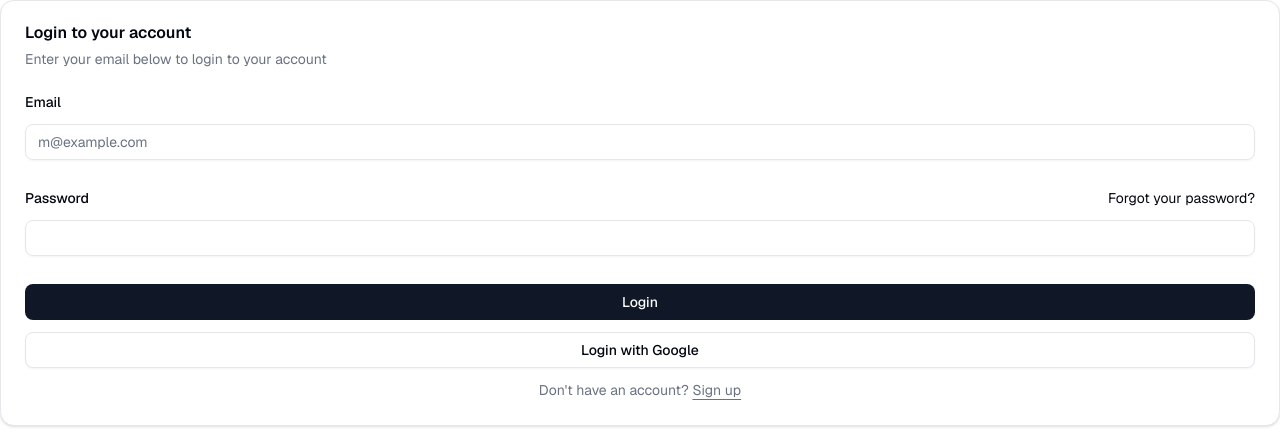
Scenario: LoginForm Component › should disable form during submission
The width and height of the screenshot is (1280, 444).
Type "test@example.com" into the field labelled "Email". click: coordinates (640, 142)
box: [25,124,1255,160]
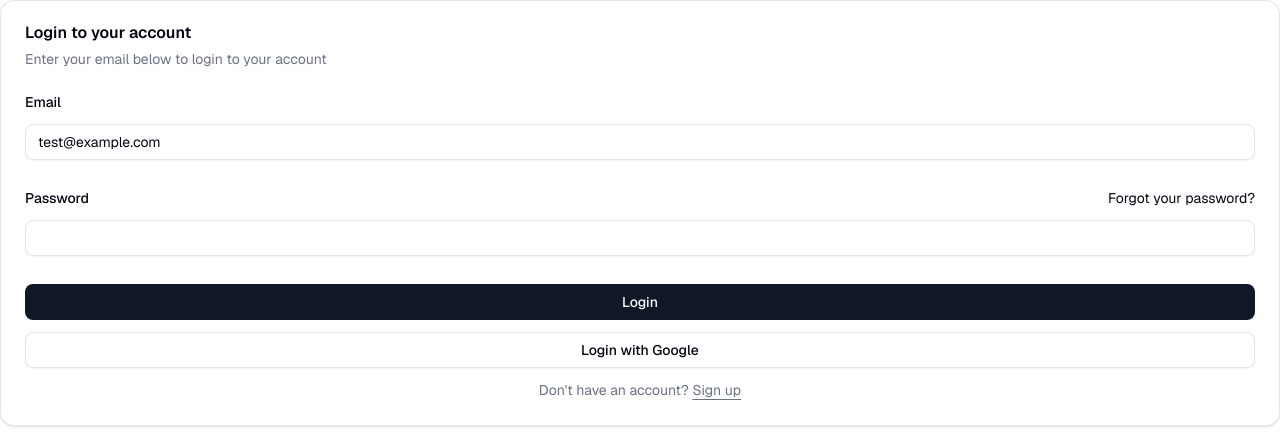
Type "password123" into the password field labelled "Password". click: coordinates (640, 238)
box: [25,220,1255,256]
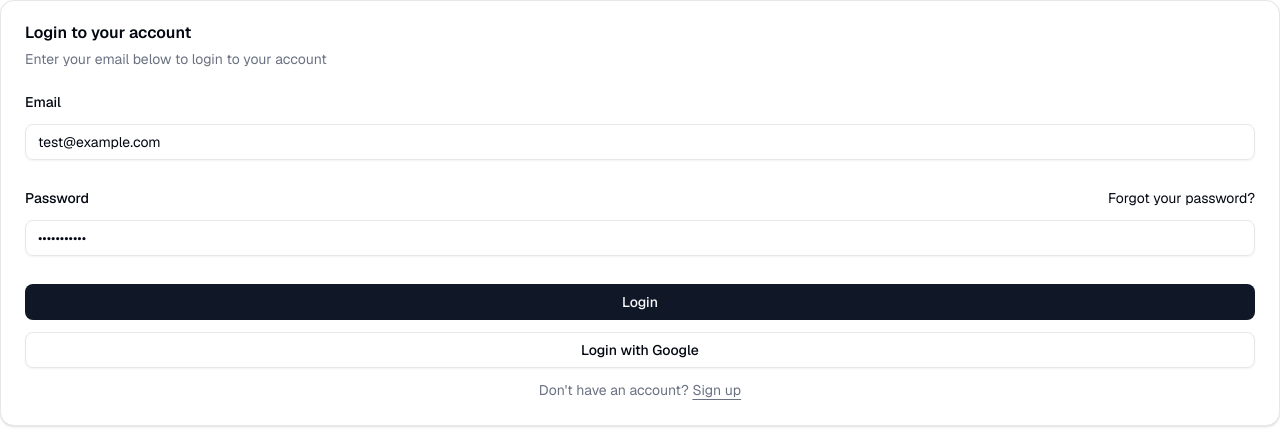
Click the button "Login". click: coordinates (640, 302)
box: [25,284,1255,320]
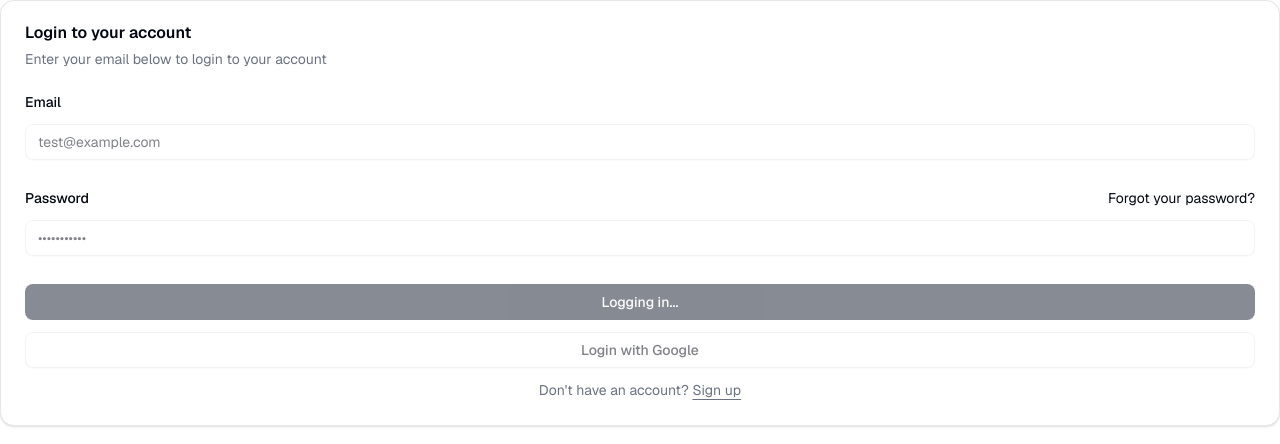
Expected: the button named "login" is disabled, [25,284,1255,320]
Expected: the field labelled "Email" is disabled, [25,124,1255,160]
Expected: the password field labelled "Password" is disabled, [25,220,1255,256]
